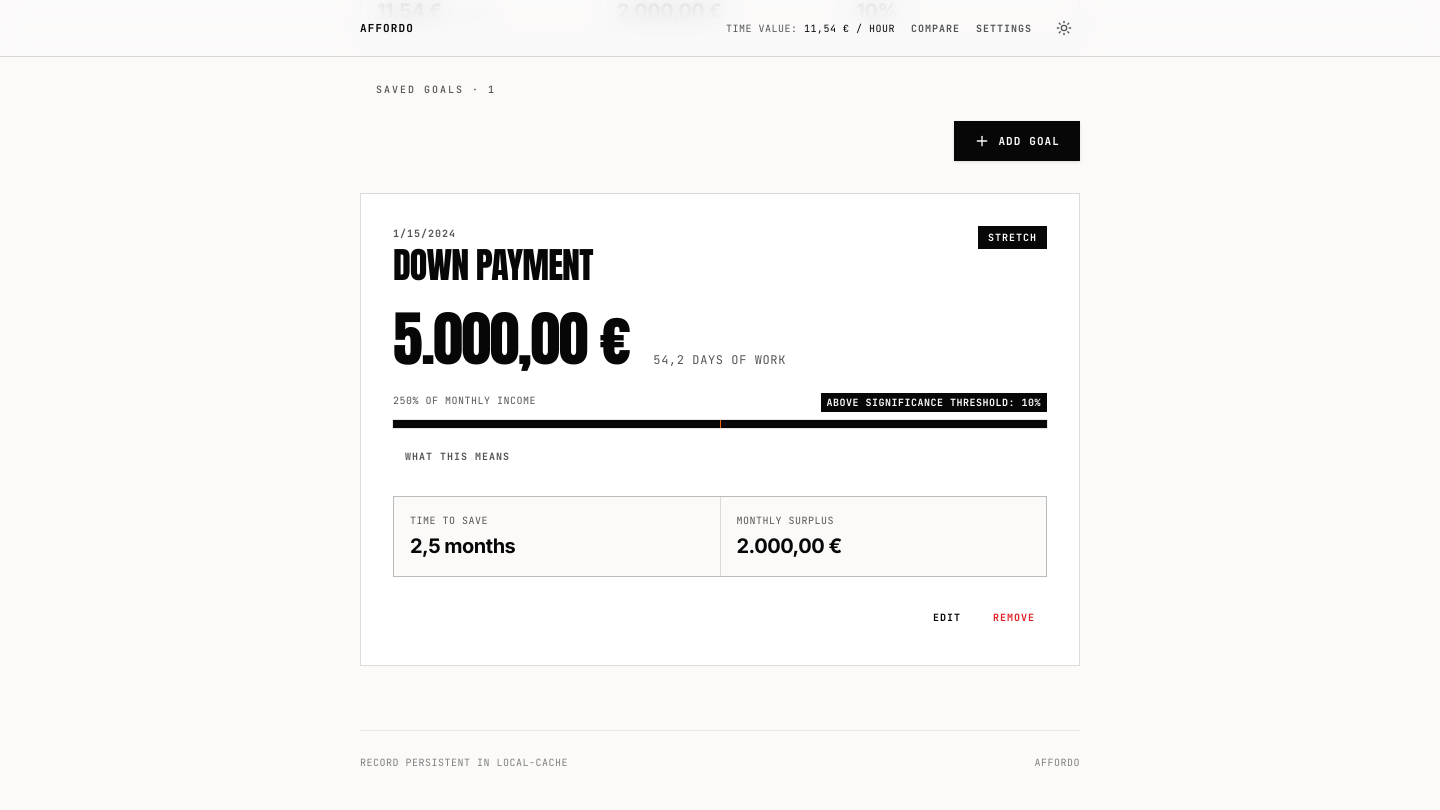
Test: Editing a goal — opening the dialog › titles the dialog Edit goal, not Add goal
(page scrolled)
Click the button "Edit".
click(947, 617)  # box [921,601,973,633]
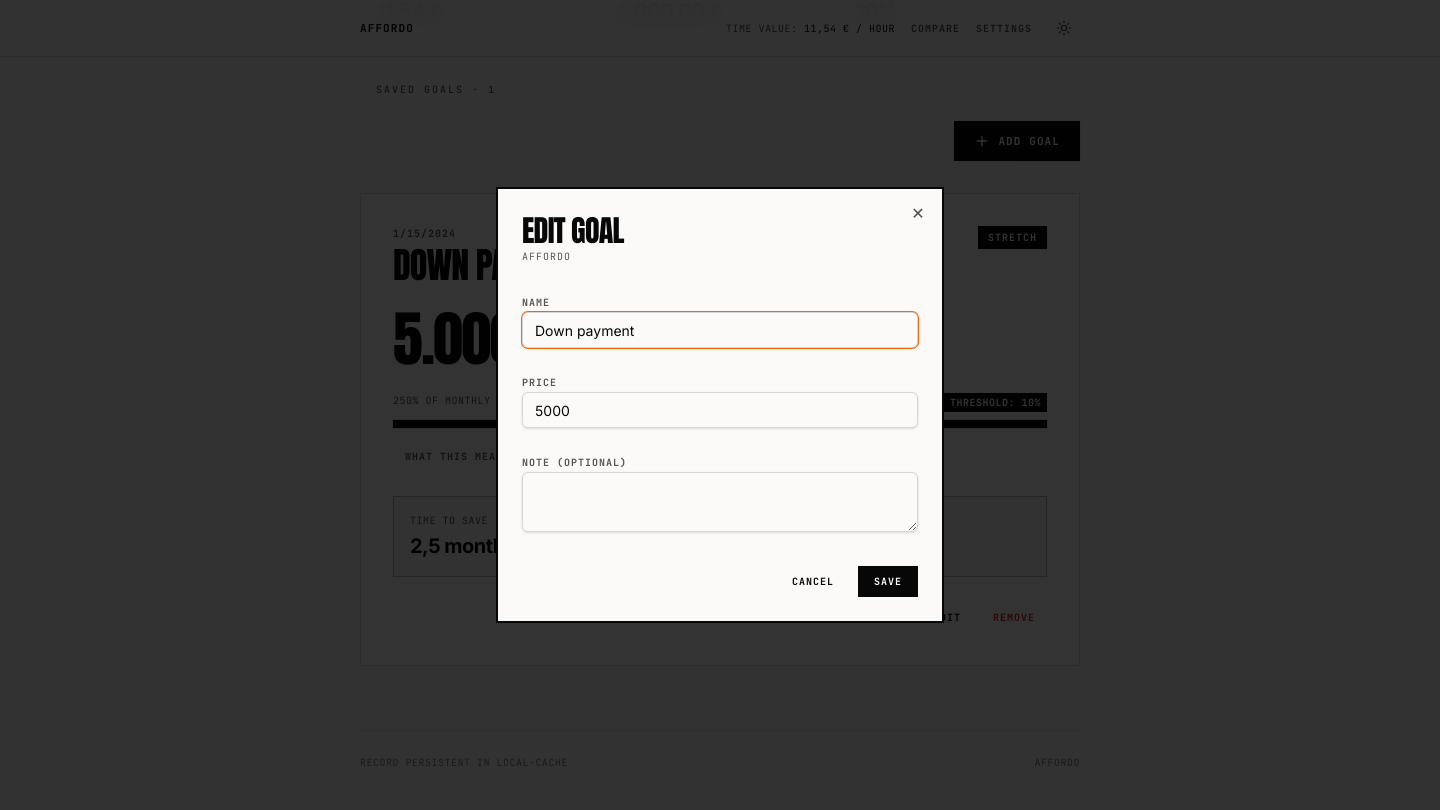
Check: the heading "Edit goal" is shown, box [522,208,624,253]
